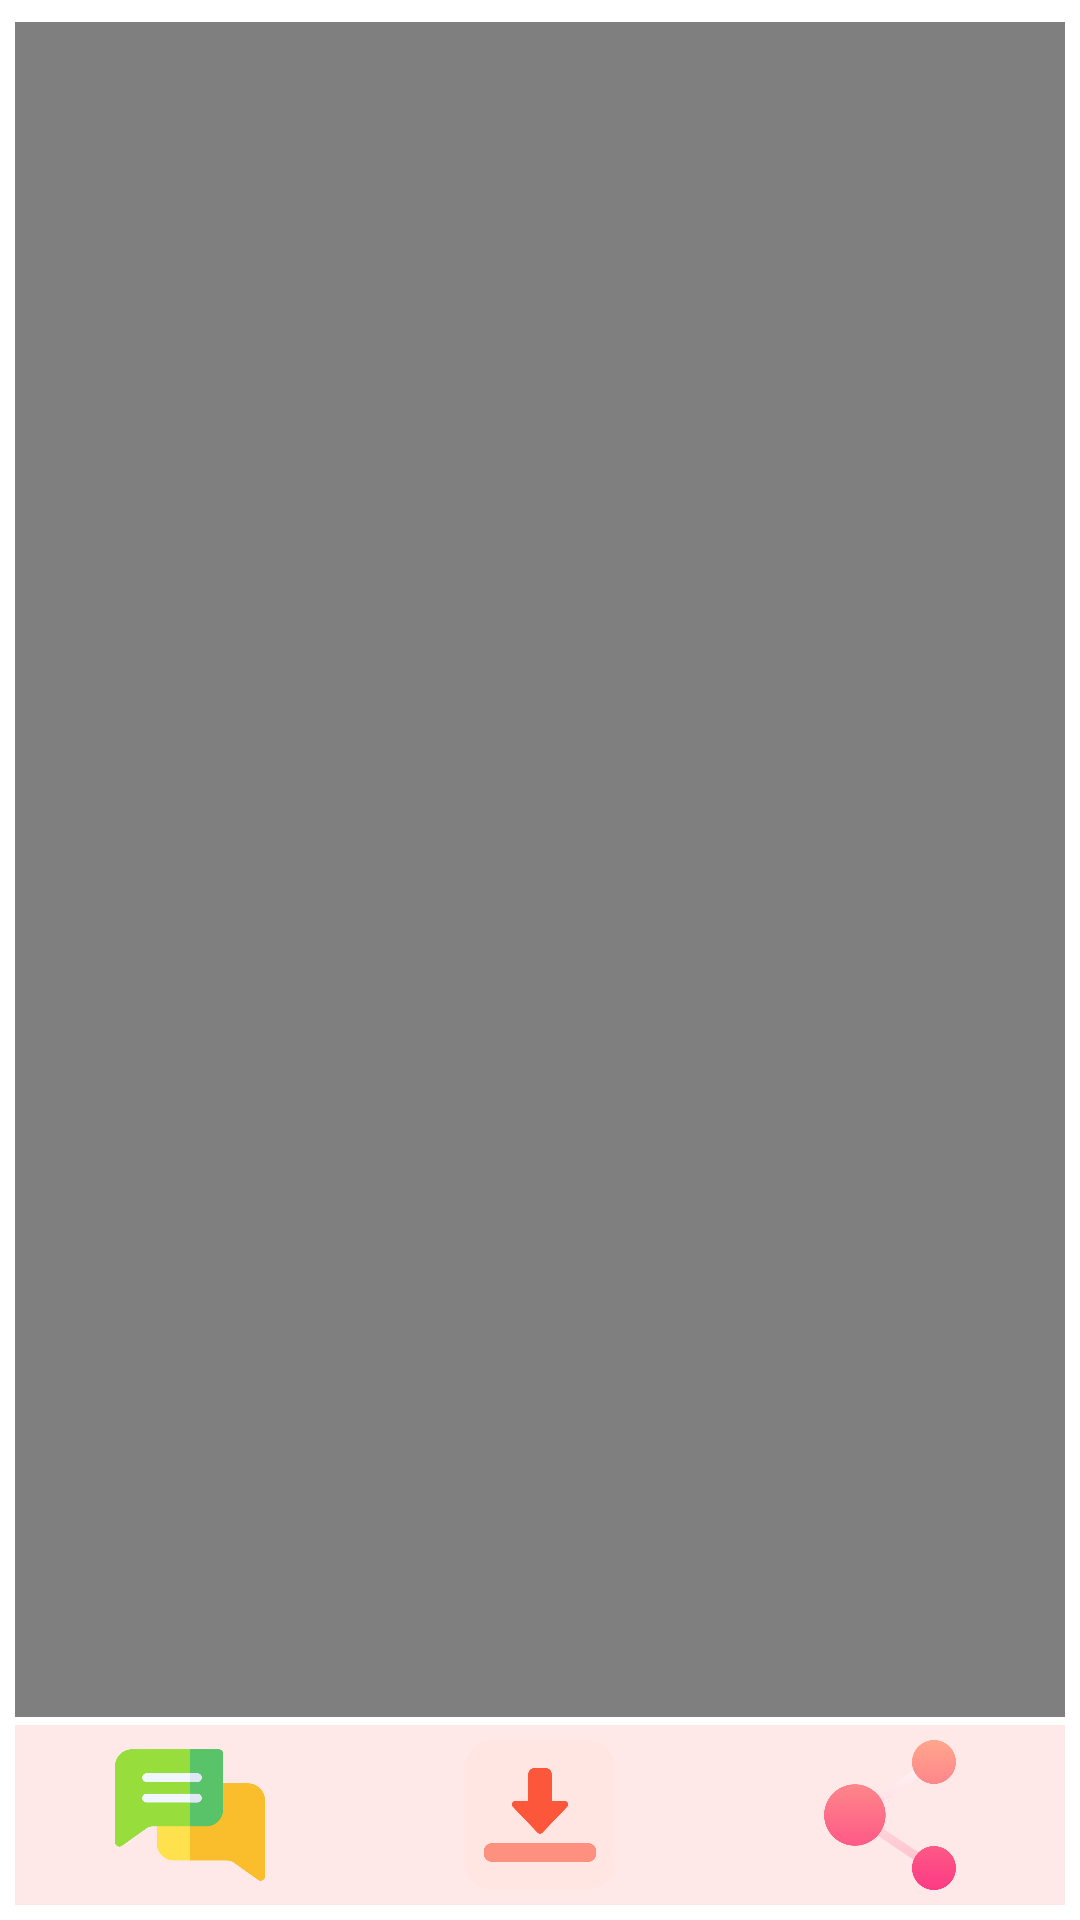

Icons on this 1080px×1920px Android screen, each with the point to tap as point (x, y):
chatting: point (190, 1815)
download: point (540, 1815)
sharing: point (890, 1815)
